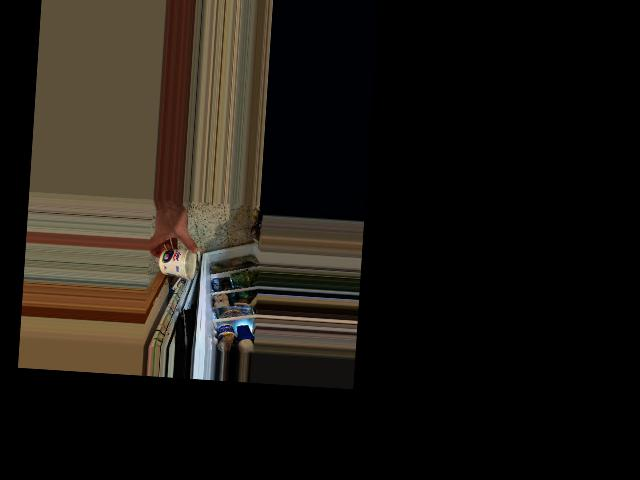cotage: (160, 244, 194, 276)
